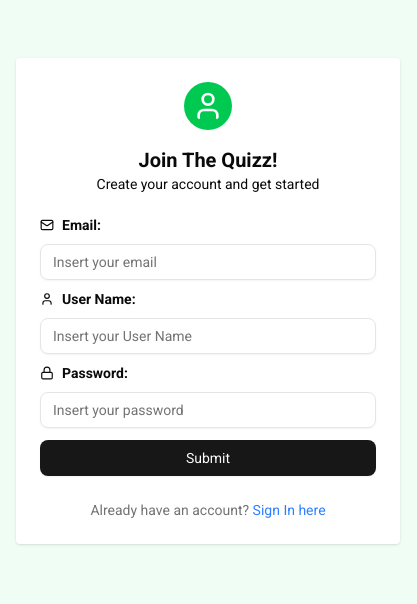
Signup page › shows password error when password is too short
expect the form with test id "submit-form" is shown: met, box [40,218,376,520]
Type "12" into the password field labelled "Password:".
click(208, 410); type("12")  # box [40,392,376,428]
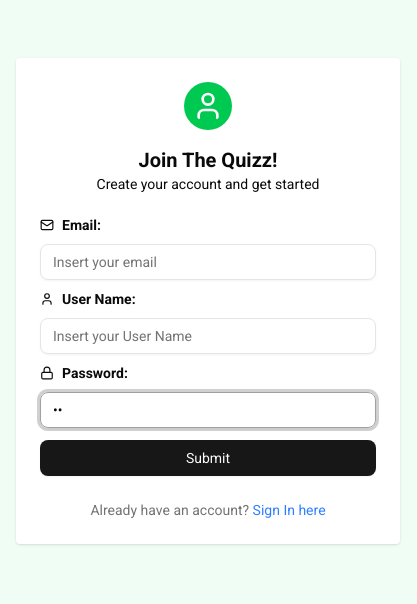
Submit the form with test id "submit-form", box [40,218,376,520]
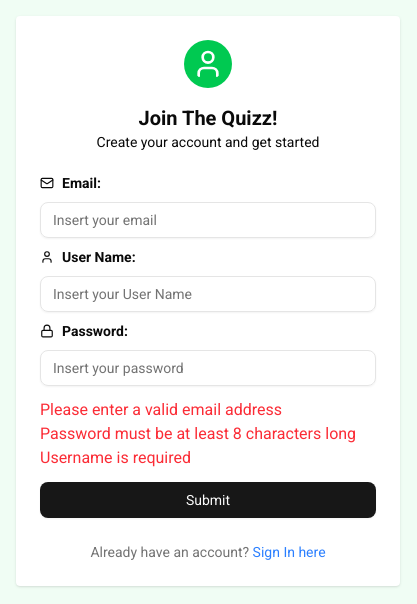
expect the list with test id "error-list" is shown: met, box [40,398,376,470]
expect the list item "Password must be at least 8 characters long" is shown: met, box [40,422,376,446]
